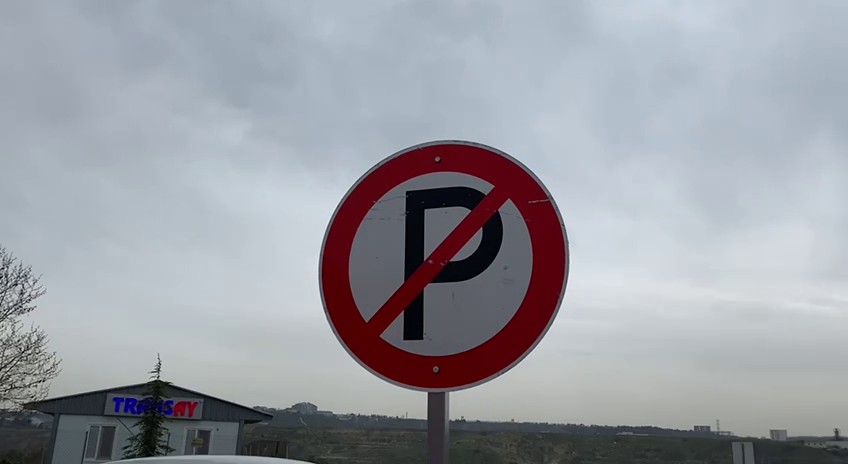noparking: (309, 131, 579, 400)
